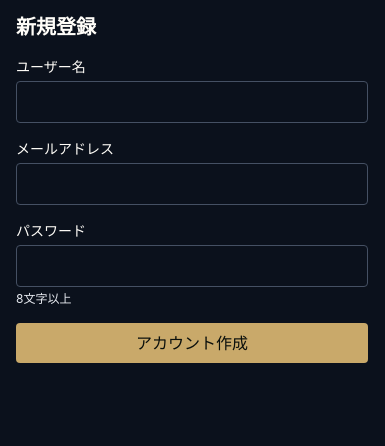
Test: SignupForm › username 未入力では API を呼ばない
The width and height of the screenshot is (385, 446).
Type "tester@example.com" into the field below "メールアドレス" at (192, 184), box [16,163,368,205]
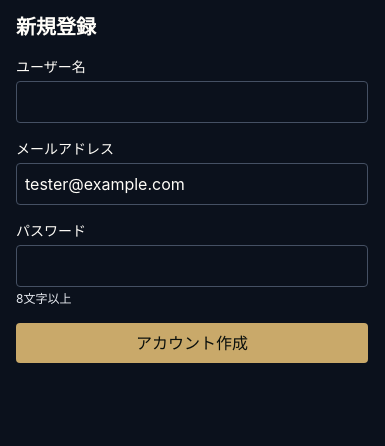
Type "password123" into the password field at (192, 266), box [16,245,368,287]
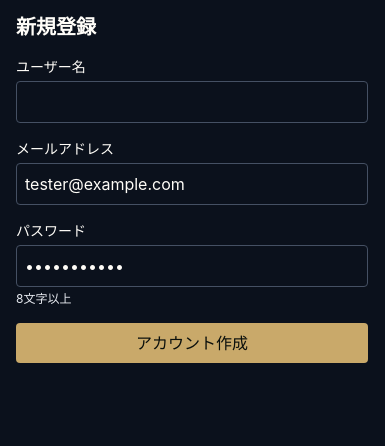
Click the button "アカウント作成" at (192, 343), box [16,323,368,363]
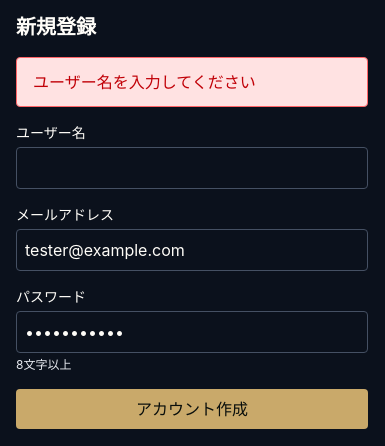
Result: the text "ユーザー名を入力してください" is shown at [16,57,368,107]
